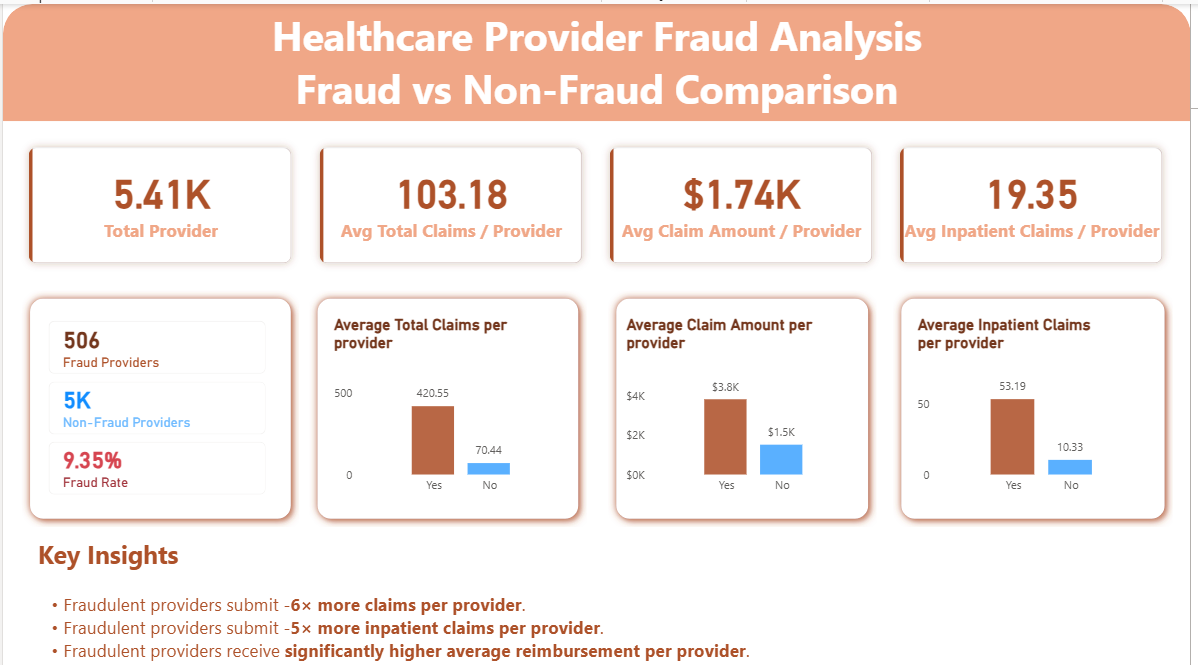

The page's visual inventory and layout, read from the dashboard file:
{"tool":"powerbi","page":{"name":"Page 1","canvas":[1280,720],"ordinal":0},"visuals":[{"type":"cardVisual","fields":{"Data":["Count(provider_summary.Provider)","Avg(provider_summary.TotalClaims)","Avg(provider_summary.AvgClaimAmount)","Avg(provider_summary.InpatientClaims)"]},"box":[0,126.7,1280.3,181.9],"z":0},{"type":"shape","box":[0,0,1280.3,126.7],"z":1000},{"type":"textbox","box":[0,0,1280.3,126.7],"z":2000},{"type":"shape","box":[330.7,308.7,299.1,255.2],"z":3000},{"type":"clusteredColumnChart","title":"Average Total Claims per provider","fields":{"Category":["provider_summary.PotentialFraud"],"Y":["Avg(provider_summary.TotalClaims)"]},"box":[351.3,336.2,256.6,201.7],"z":4000},{"type":"shape","box":[959.2,308.7,301.9,255.2],"z":5000},{"type":"shape","box":[651.8,308.7,289.5,255.2],"z":6000},{"type":"clusteredColumnChart","title":"Average Claim Amount per provider","fields":{"Category":["provider_summary.PotentialFraud"],"Y":["Avg(provider_summary.AvgClaimAmount)"]},"box":[666.9,336.2,256.6,201.7],"z":7000},{"type":"clusteredColumnChart","title":"Average Inpatient Claims per provider","fields":{"Category":["provider_summary.PotentialFraud"],"Y":["Avg(provider_summary.InpatientClaims)"]},"box":[981.1,336.2,256.6,201.7],"z":8000},{"type":"textbox","box":[32.3,570.1,1247.9,149.6],"z":9000},{"type":"shape","box":[20.2,308.6,299.1,255.2],"z":10000},{"type":"cardVisual","fields":{"Data":["provider_summary.Fraud Providers","provider_summary.Non-Fraud Providers","provider_summary.Fraud Rate"]},"box":[32.3,324.8,268.2,223.7],"z":11000}]}

Visuals, with their boxes in screenshot pixels (x1, y1, x2, y2), scaled from the page's 1280x720 canvas onto the 1198x665 screenshot:
cardVisual - Count(provider_summary.Provider) x Avg(provider_summary.TotalClaims): [left=0, top=117, right=1197, bottom=285]
shape: [left=0, top=0, right=1197, bottom=117]
textbox: [left=0, top=0, right=1197, bottom=117]
shape: [left=310, top=285, right=589, bottom=521]
"Average Total Claims per provider" clusteredColumnChart: [left=329, top=311, right=569, bottom=497]
shape: [left=898, top=285, right=1180, bottom=521]
shape: [left=610, top=285, right=881, bottom=521]
"Average Claim Amount per provider" clusteredColumnChart: [left=624, top=311, right=864, bottom=497]
"Average Inpatient Claims per provider" clusteredColumnChart: [left=918, top=311, right=1158, bottom=497]
textbox: [left=30, top=527, right=1197, bottom=664]
shape: [left=19, top=285, right=299, bottom=521]
cardVisual - provider_summary.Fraud Providers x provider_summary.Non-Fraud Providers: [left=30, top=300, right=281, bottom=507]
